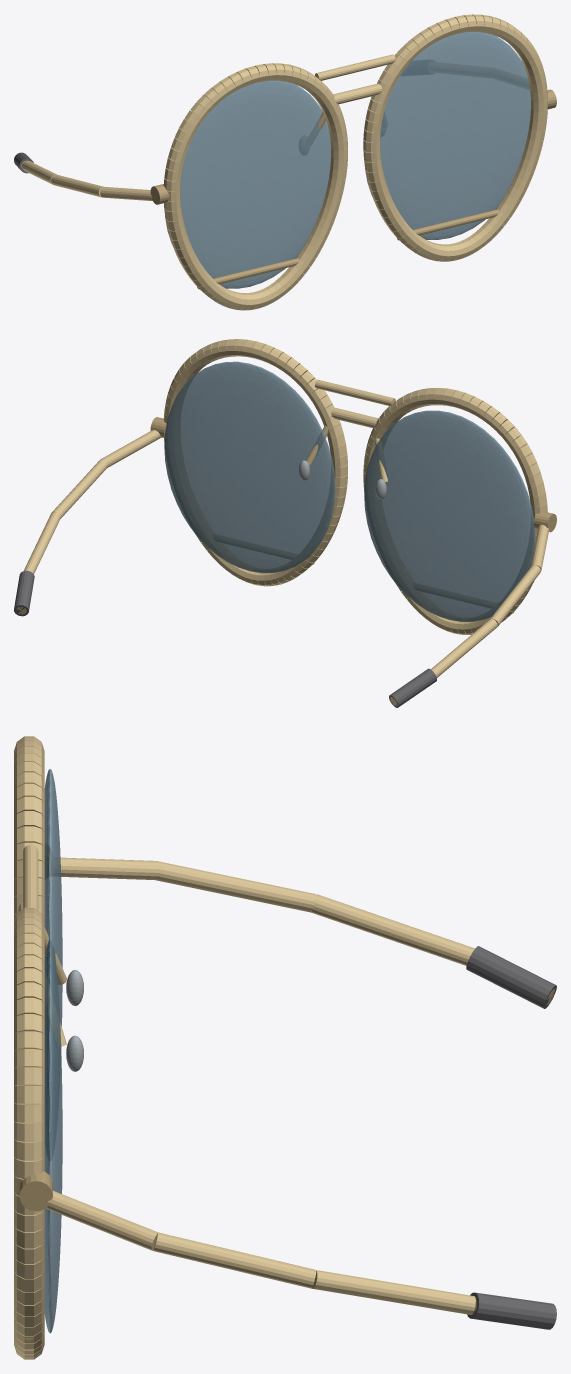
File: classic_aviator.glb
The picture shows the model from 3 angles, top to bottom: view 1: azimuth 30°, elevation 25°; view 2: azimuth 150°, elevation 25°; view 3: azimuth 270°, elevation 25°; orthographic projection. The views are drawn at different scales.
Visible parts, largest first — view 1: right_smoke_blue_lens, left_smoke_blue_lens, left_gold_aviator_rim, right_gold_aviator_rim, upper_double_bridge, right_lower_rim_accent, left_lower_rim_accent, left_thin_temple_1, left_thin_temple_0, main_nose_bridge, left_thin_temple_2; view 2: right_smoke_blue_lens, left_smoke_blue_lens, right_gold_aviator_rim, left_gold_aviator_rim, left_thin_temple_2, right_thin_temple_1, left_thin_temple_1, left_black_ear_tip, upper_double_bridge, right_thin_temple_2, right_thin_temple_0, right_black_ear_tip (+2 smaller); view 3: right_gold_aviator_rim, right_smoke_blue_lens, left_gold_aviator_rim, left_thin_temple_2, right_thin_temple_1, right_thin_temple_2, left_thin_temple_1, left_smoke_blue_lens, left_black_ear_tip, right_thin_temple_0, right_black_ear_tip, left_thin_temple_0 (+2 smaller).
Boxes of the visible parts, x1,y1,x2,y2 form: right_smoke_blue_lens: (365, 32, 530, 239); left_smoke_blue_lens: (165, 80, 330, 288); left_gold_aviator_rim: (163, 63, 347, 310); right_gold_aviator_rim: (363, 14, 547, 261); upper_double_bridge: (315, 54, 395, 80); right_lower_rim_accent: (397, 209, 498, 240); left_lower_rim_accent: (197, 258, 298, 289); left_thin_temple_1: (51, 174, 103, 197); left_thin_temple_0: (100, 187, 152, 200); main_nose_bridge: (333, 83, 382, 104); left_thin_temple_2: (22, 160, 56, 184); right_smoke_blue_lens: (164, 361, 335, 573); left_smoke_blue_lens: (364, 410, 535, 621); right_gold_aviator_rim: (163, 339, 347, 586); left_gold_aviator_rim: (363, 387, 547, 634); left_thin_temple_2: (431, 618, 497, 677); right_thin_temple_1: (51, 459, 107, 518); left_thin_temple_1: (490, 565, 540, 626); left_black_ear_tip: (389, 668, 436, 707); upper_double_bridge: (315, 379, 395, 406); right_thin_temple_2: (24, 512, 60, 573); right_thin_temple_0: (101, 430, 161, 467); right_black_ear_tip: (14, 570, 34, 616); right_gold_aviator_rim: (14, 907, 44, 1359); right_smoke_blue_lens: (44, 940, 62, 1333); left_gold_aviator_rim: (14, 736, 44, 921); left_thin_temple_2: (312, 894, 474, 965); right_thin_temple_1: (153, 1232, 316, 1288); right_thin_temple_2: (312, 1270, 475, 1314); left_thin_temple_1: (155, 861, 316, 912); left_smoke_blue_lens: (44, 769, 62, 1026); left_black_ear_tip: (466, 946, 556, 1008); right_thin_temple_0: (46, 1190, 158, 1250); right_black_ear_tip: (467, 1292, 556, 1329); left_thin_temple_0: (60, 857, 158, 879).
Bounding box in the file's own units: 3.27 × 1.68 × 1.95.
